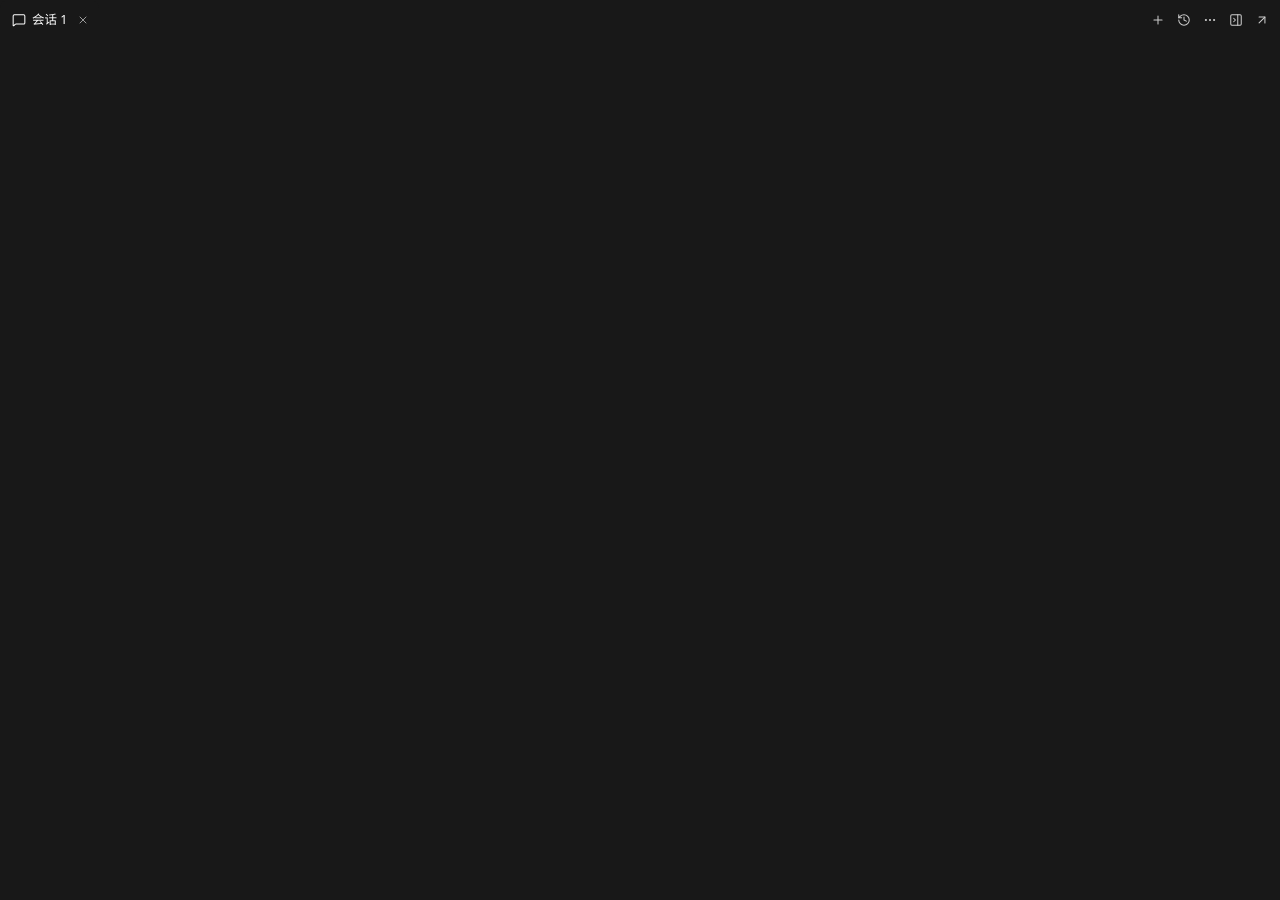
Test: <ThreadTabs> history popover › caps the recent list at five, offers 查看全部 as a menu row and filters by the search box
Step 1. Click the button named "历史会话" → (1184, 20), box [1172,8,1196,32]
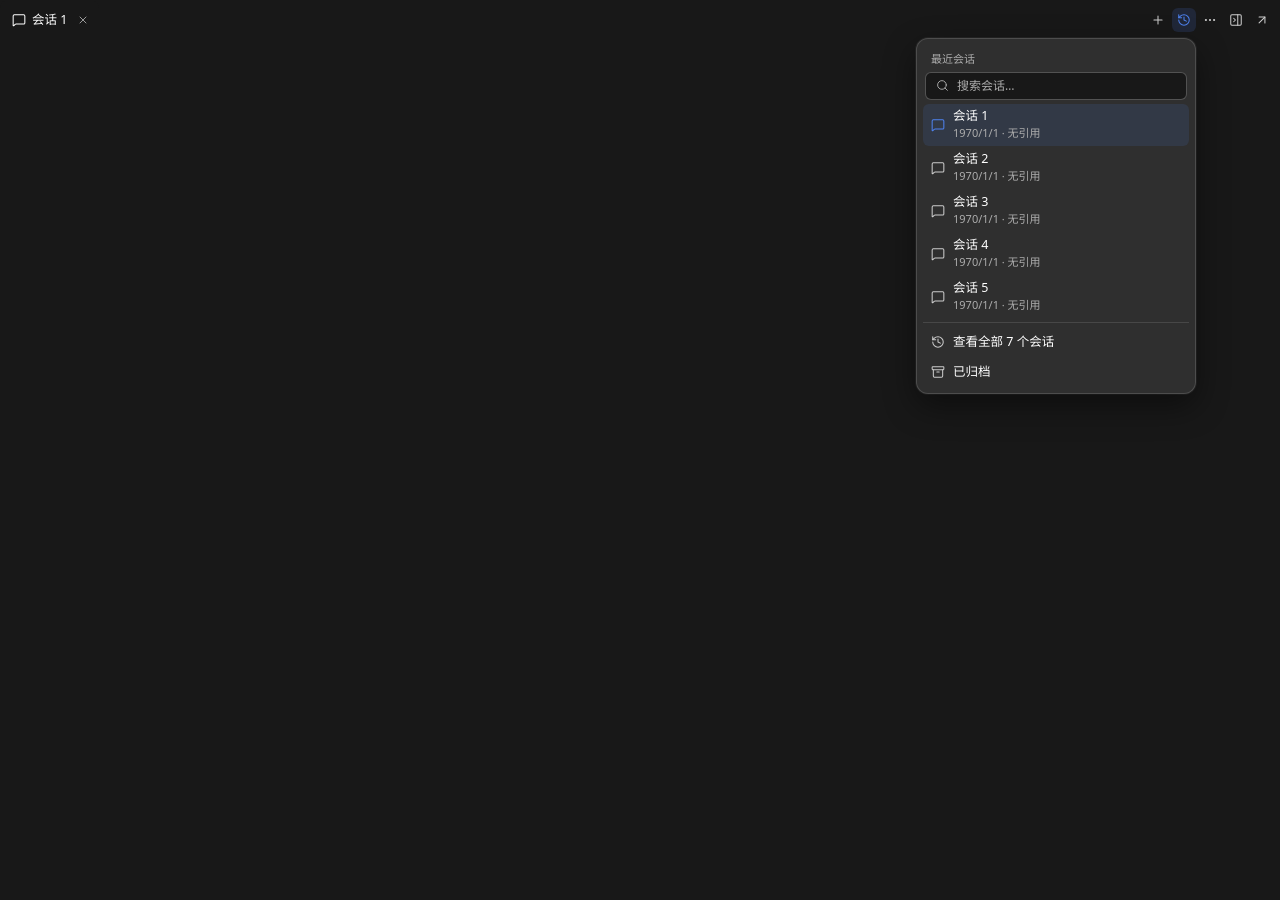
Expected: the number of options is 5, [923,104,1189,146]; [931,150,1041,183]; [931,193,1041,226]; [931,236,1041,269]; [931,279,1041,312]
Step 2. Click the button "查看全部 7 个会话" → (1056, 342), box [923,326,1189,356]
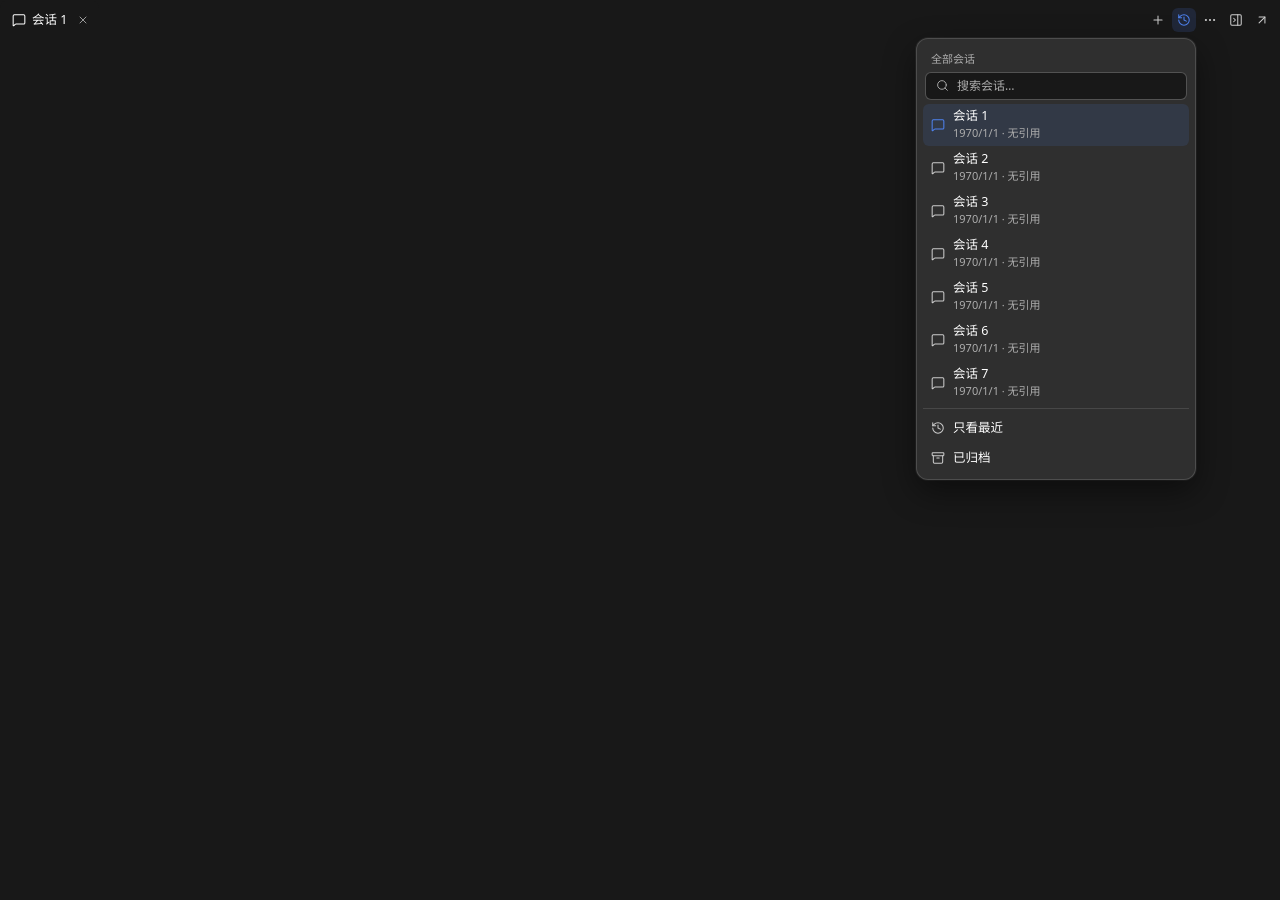
Expected: the number of options is 7
Step 3. Type "会话 6" into the search field labelled "搜索会话" → (1068, 86), box [957,72,1180,98]
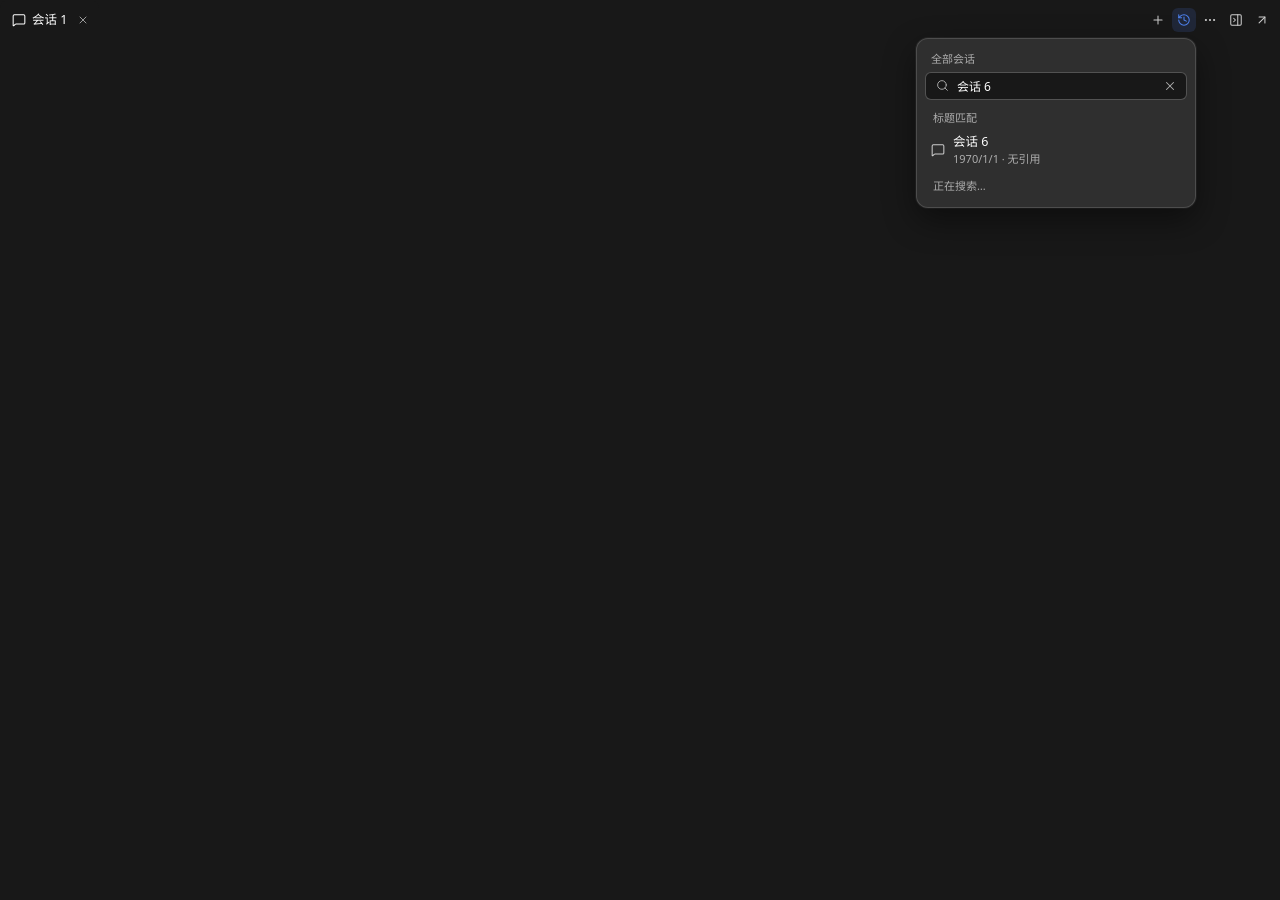
Expected: the number of options is 1, [931,132,1041,166]
Step 4. Replace the text in the search field named "搜索会话" with "没有这个" → (1054, 86), box [957,72,1152,98]
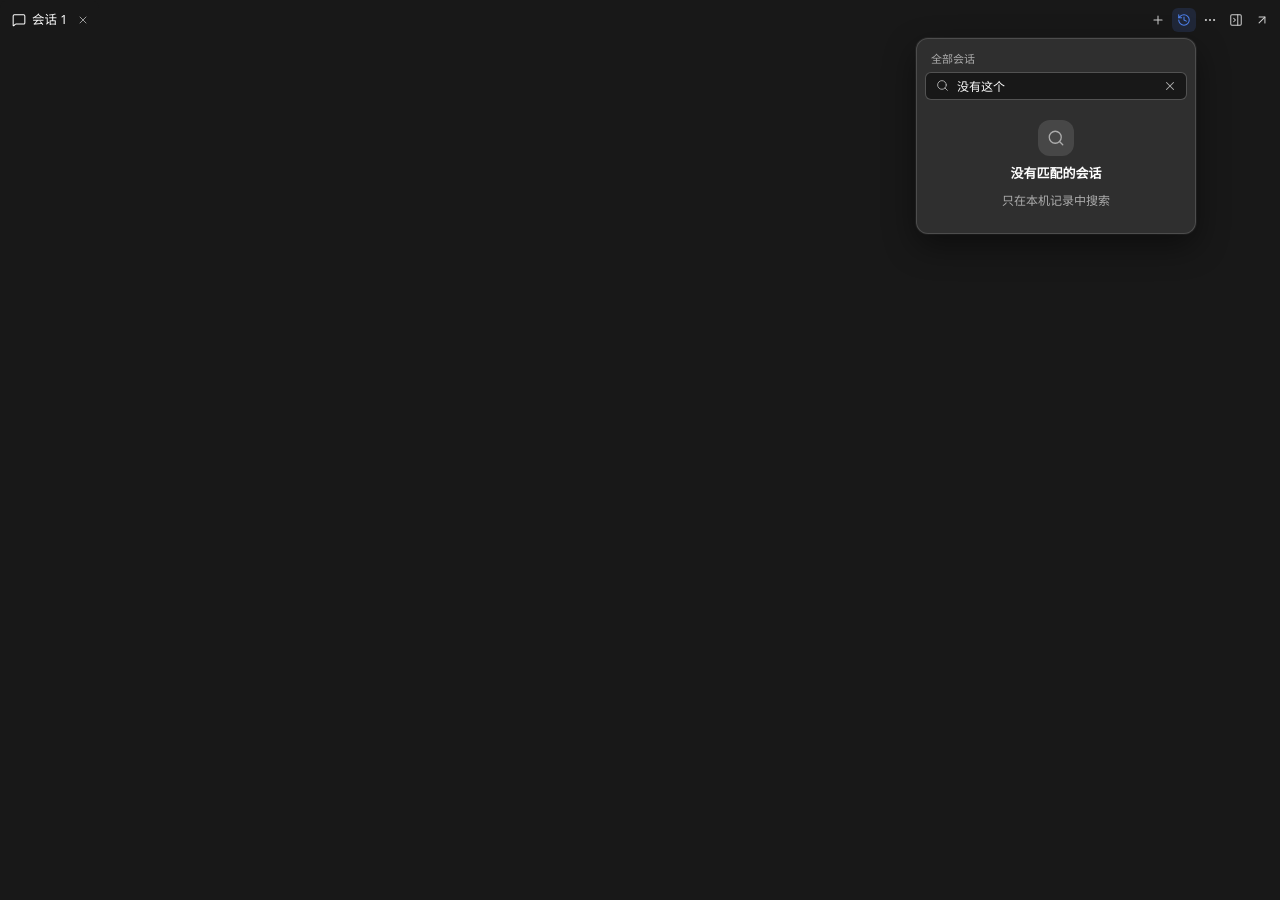
Expected: the text "没有匹配的会话" is shown, [1010,164,1102,183]
